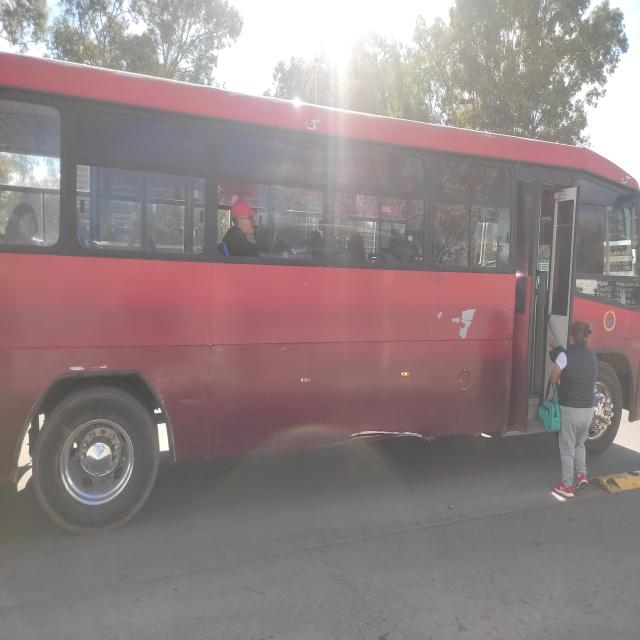3: (521, 308, 612, 510)
Autobus: (3, 37, 640, 536)
